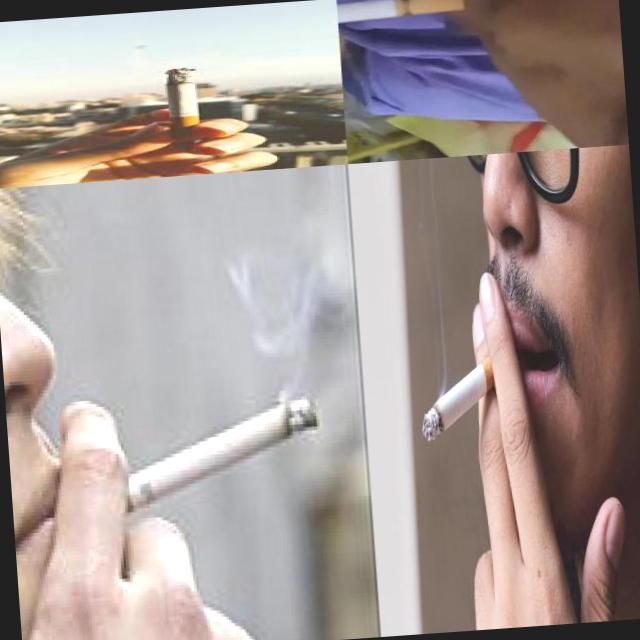cigarette: (58, 393, 325, 533), (416, 343, 513, 442), (336, 0, 470, 28), (164, 65, 202, 139)
